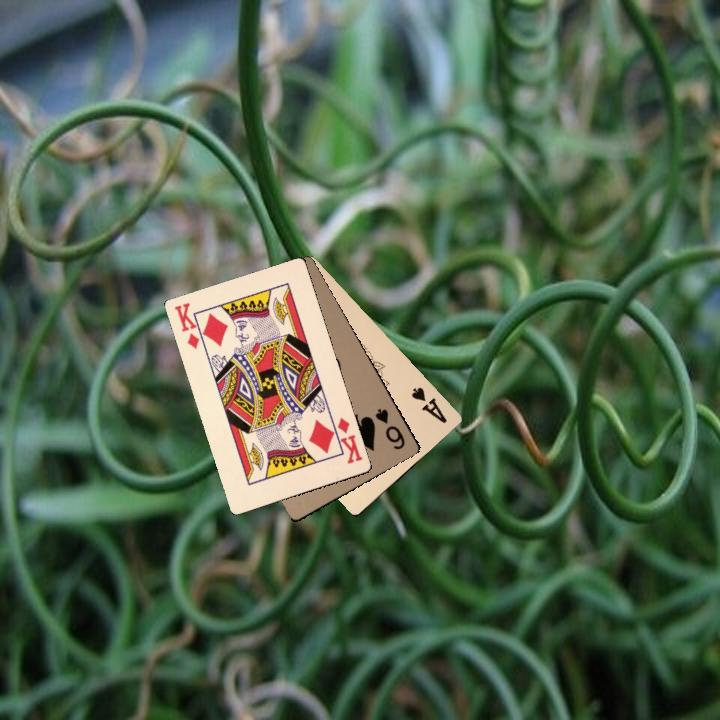6s: (371, 404, 408, 452)
As: (407, 383, 450, 426)
Kd: (170, 298, 209, 352), (327, 414, 365, 466)
